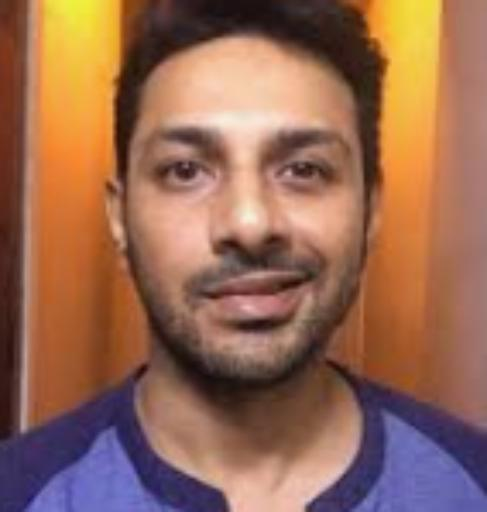left_eye: (277, 160, 334, 189)
left_lip_corner: (294, 270, 320, 295)
right_eye: (155, 159, 218, 189)
right_lip_corner: (192, 286, 224, 307)
